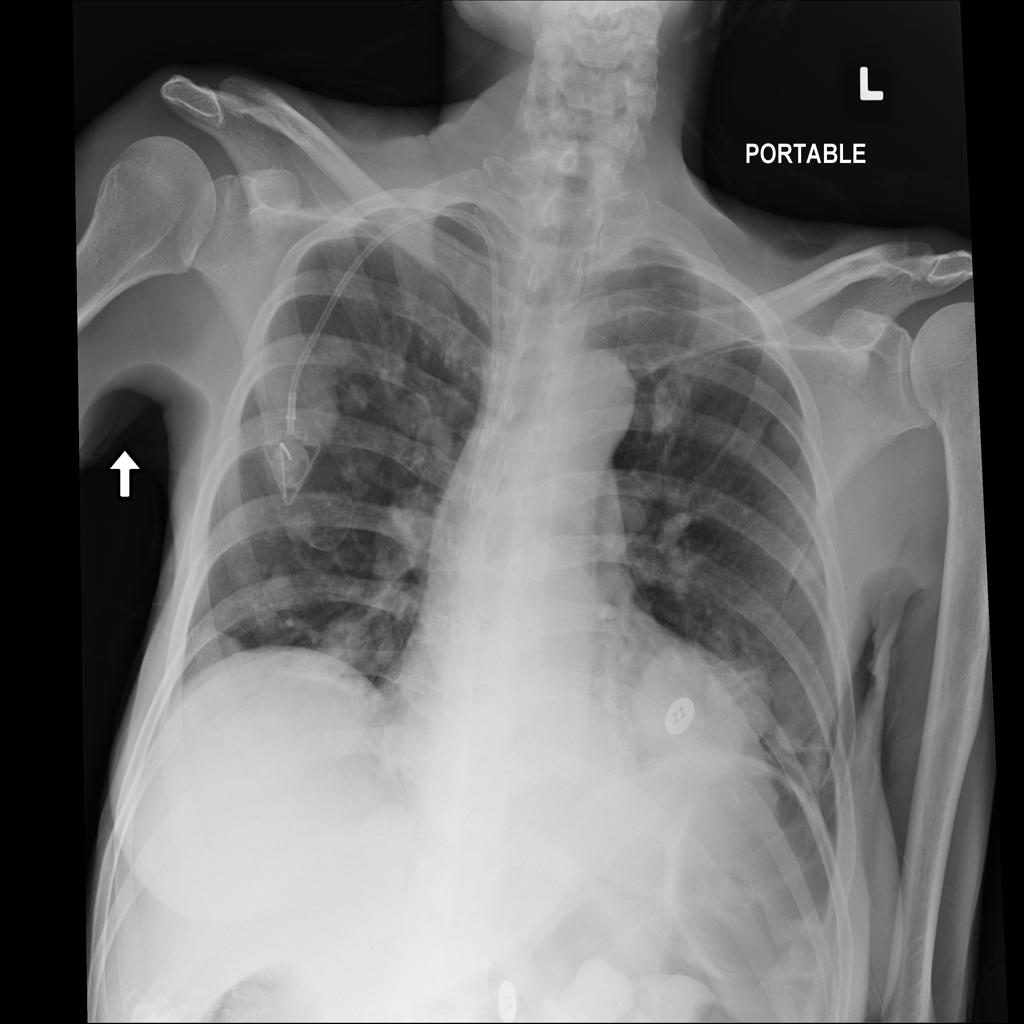nodule: (620, 627, 788, 776), (317, 597, 401, 682)
